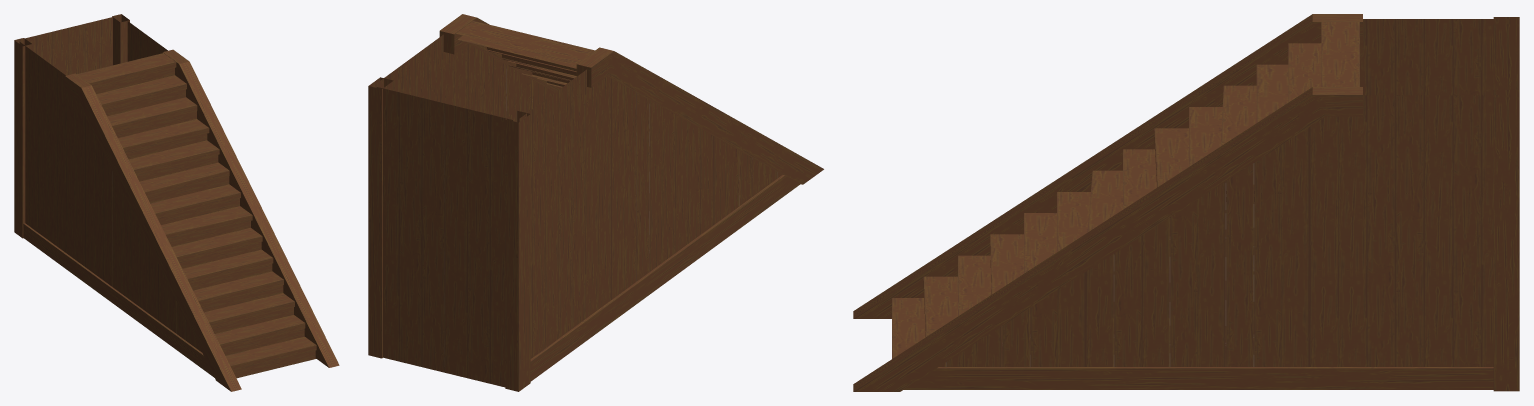
File: stair_interior_solid_extended.glb
3 renders of one model, left to right at view 1: azimuth 30°, elevation 25°; view 2: azimuth 150°, elevation 25°; view 3: azimuth 270°, elevation 25°, orthographic. The views are drawn at different scales.
Visible parts, largest first — view 1: Stair_Interior_SolidExtended; view 2: Stair_Interior_SolidExtended; view 3: Stair_Interior_SolidExtended.
Part boxes in pixels (x1,y1,x2,y2): Stair_Interior_SolidExtended: [14, 14, 339, 391]; Stair_Interior_SolidExtended: [368, 14, 823, 391]; Stair_Interior_SolidExtended: [853, 14, 1519, 391].
Bounding box in the file's own units: 1.77 × 3.05 × 6.16.
Materials: 1 (1 with a texture image).
